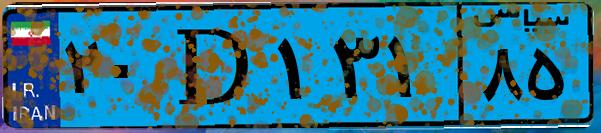0: (110, 28, 158, 98)
1: (270, 28, 330, 110), (385, 28, 445, 110)
2: (57, 26, 110, 100)
3: (330, 28, 385, 110)
5: (525, 38, 570, 115)
8: (475, 38, 525, 113)
D: (158, 12, 270, 120)
